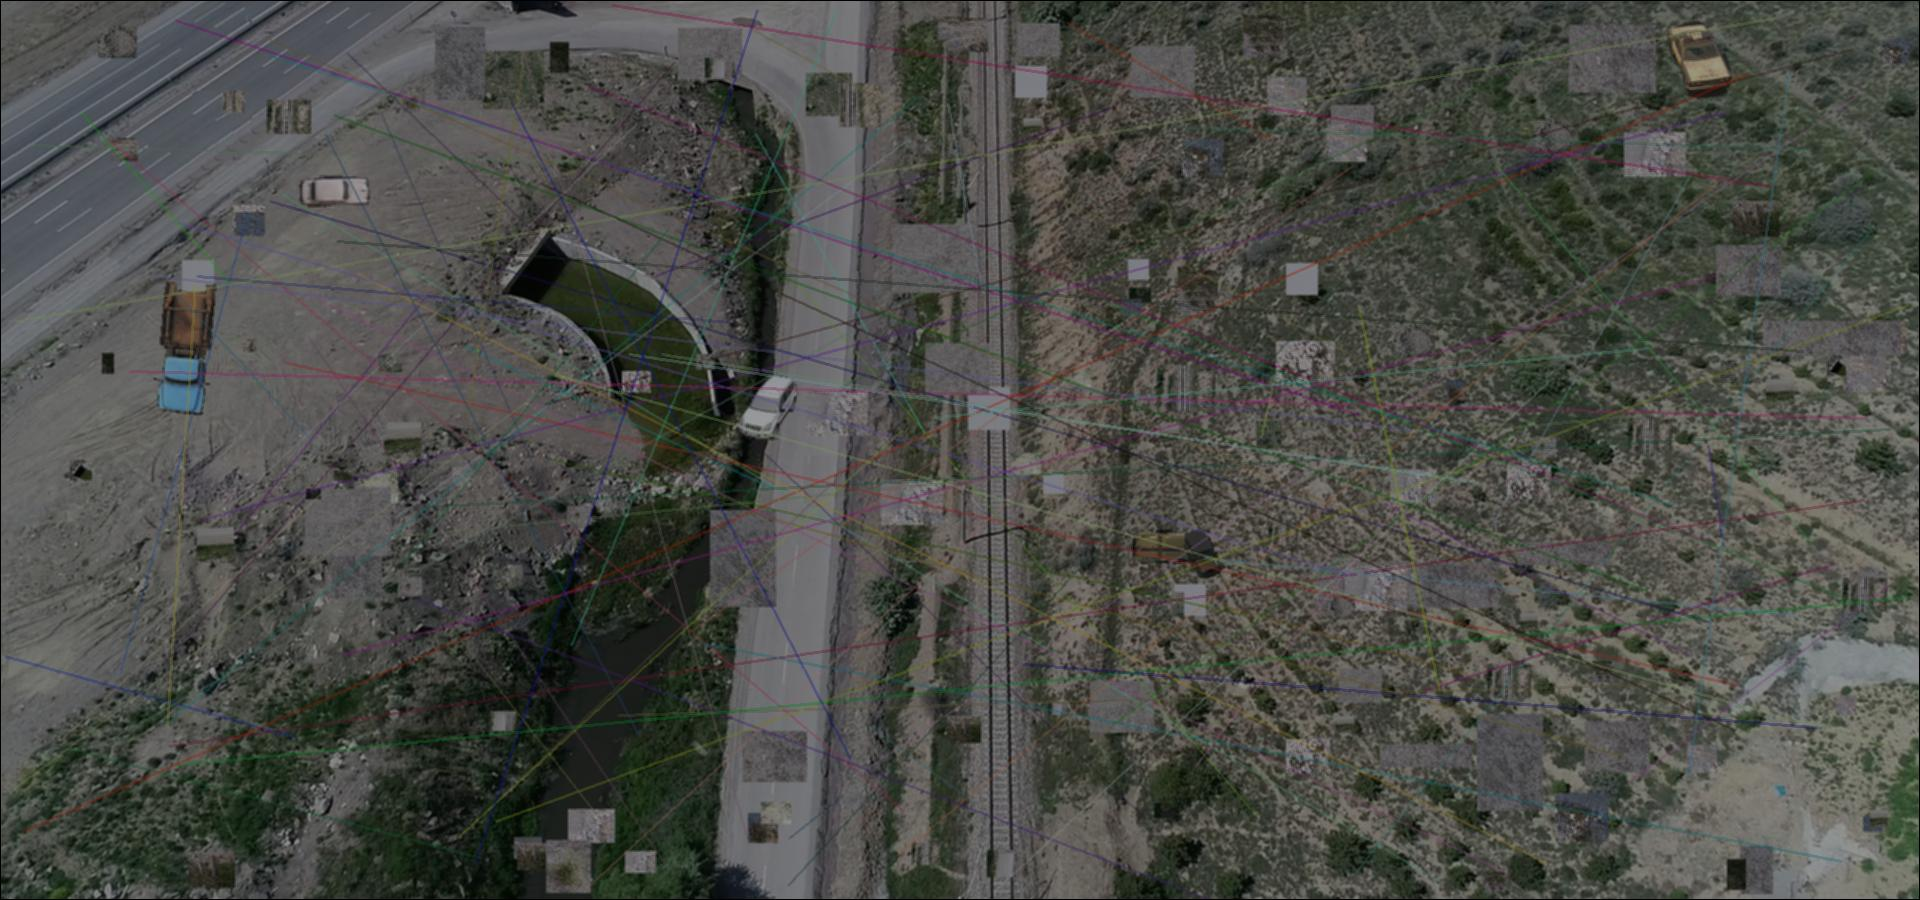arac: (153, 279, 219, 418), (1660, 20, 1736, 98), (733, 373, 802, 446), (1129, 529, 1216, 566), (296, 175, 373, 209), (1183, 530, 1223, 578)
